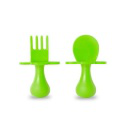fork: (20, 24, 61, 103)
